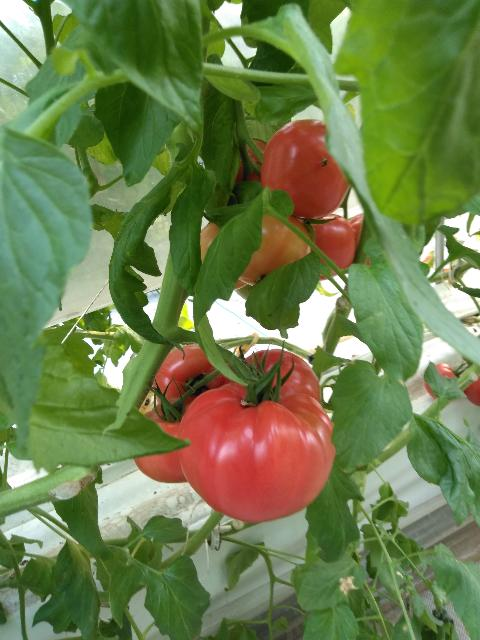b_fully_ripened: (177, 383, 337, 523), (261, 119, 351, 219), (133, 396, 198, 484), (222, 349, 321, 403), (153, 344, 225, 403), (294, 214, 355, 281)
